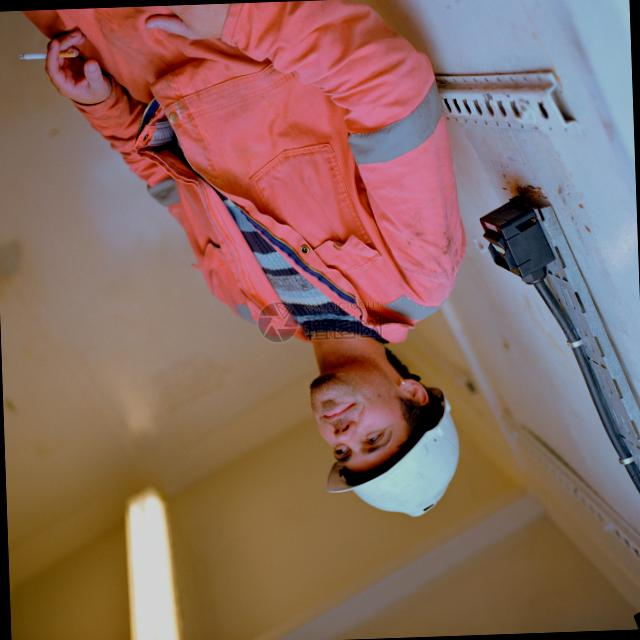smoke: (19, 41, 82, 67)
